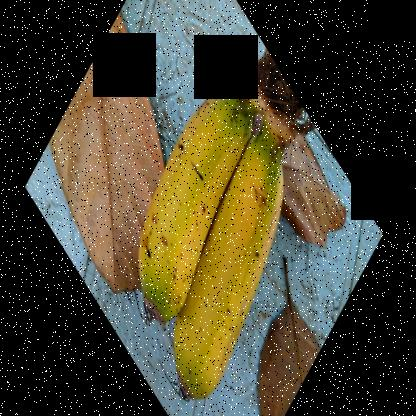ripe: (179, 125, 290, 405), (134, 61, 247, 318)
